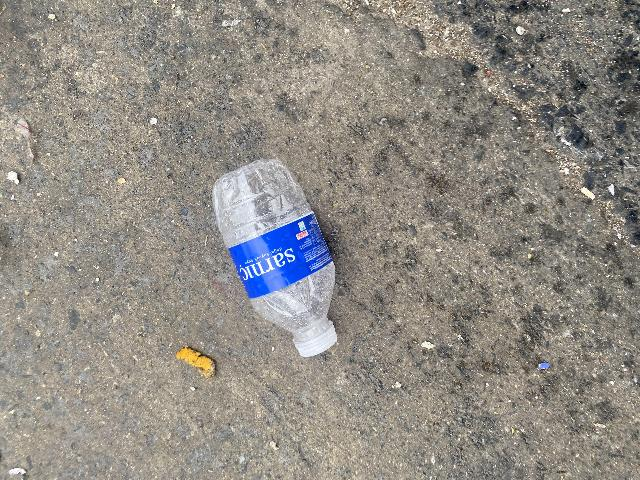Plastik: (211, 163, 346, 357), (287, 325, 338, 360)
